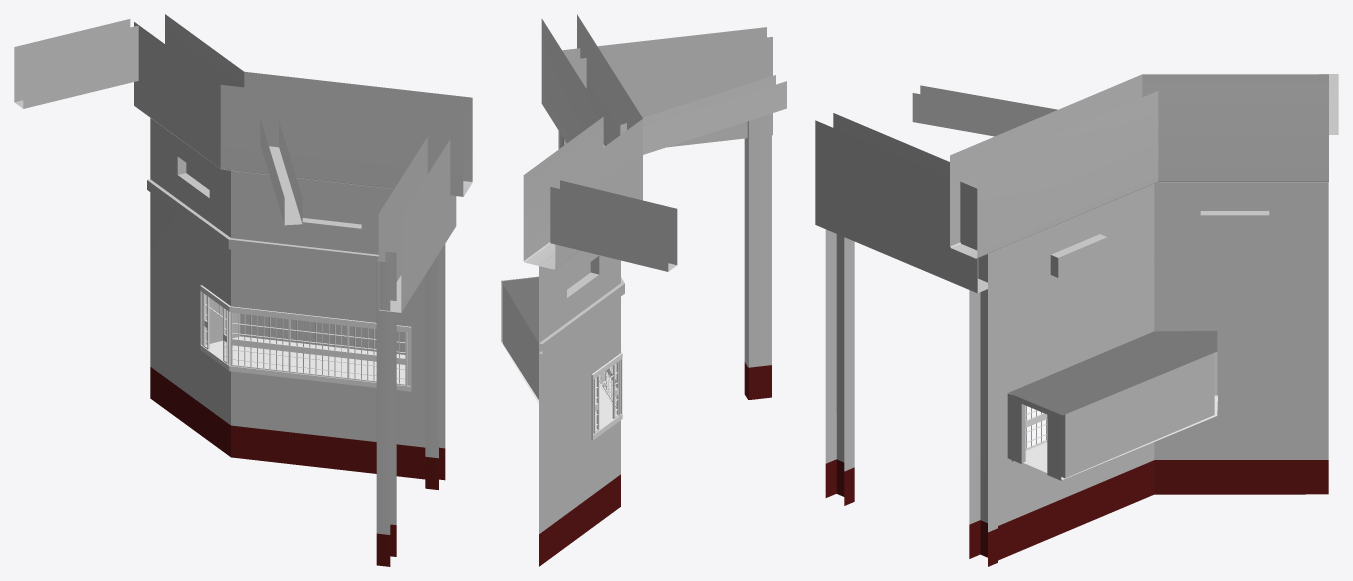
File: SM_H_Building_Tide_Jail_E_01a_ATLAS.fbx
3 views of the same model, side by side, from view 1: azimuth 30°, elevation 25°; view 2: azimuth 150°, elevation 25°; view 3: azimuth 270°, elevation 25° (orthographic). The views are drawn at different scales.
Parts seen in each view (by area): view 1: SM_H_Building_Tide_Jail_E_01a_ATLAS; view 2: SM_H_Building_Tide_Jail_E_01a_ATLAS; view 3: SM_H_Building_Tide_Jail_E_01a_ATLAS.
Part boxes in pixels (bbox=[...]): SM_H_Building_Tide_Jail_E_01a_ATLAS: bbox=[14, 14, 472, 566]; SM_H_Building_Tide_Jail_E_01a_ATLAS: bbox=[501, 14, 786, 566]; SM_H_Building_Tide_Jail_E_01a_ATLAS: bbox=[815, 74, 1338, 566].
Bounding box in the file's own units: 1805 × 2590 × 2250.
